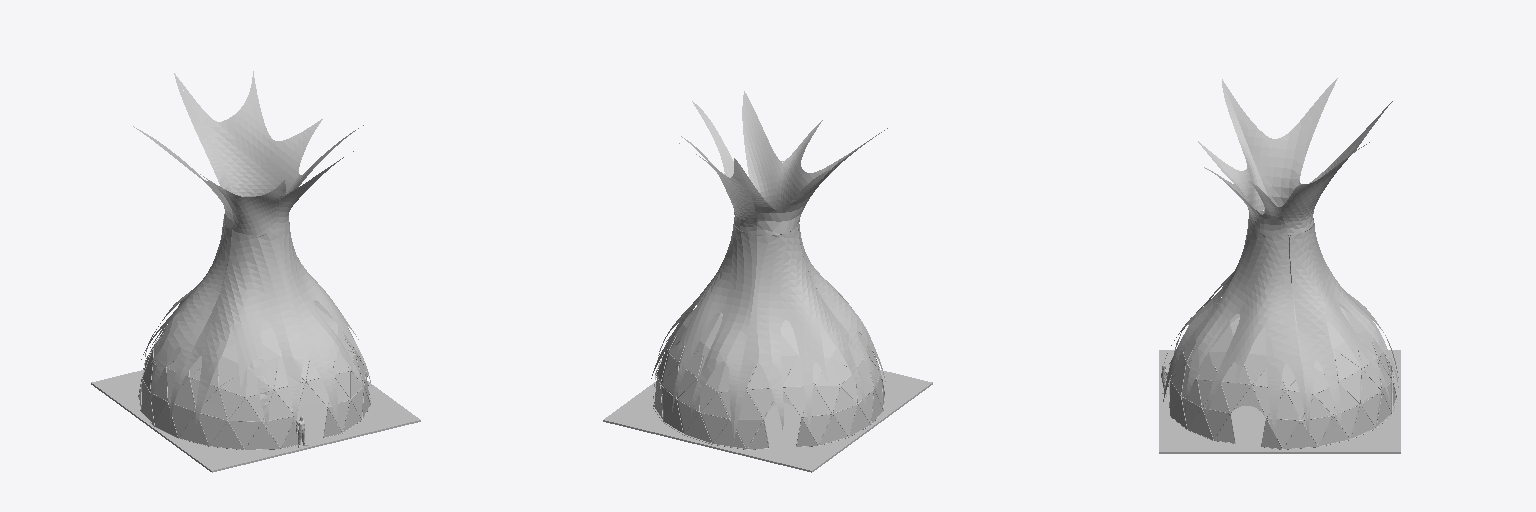
Rendered from Geo 12 Corona.obj.
3 renders of one model, left to right at view 1: azimuth 30°, elevation 25°; view 2: azimuth 150°, elevation 25°; view 3: azimuth 270°, elevation 25°, orthographic.
Visible parts, largest first — view 1: tenso, Obj_1399, Box002, Obj_1396, Obj_1388, Obj_1389, Obj_1398; view 2: tenso, Box002, Obj_1397, Obj_1396, Obj_1391, Obj_1386; view 3: tenso, Obj_1398, Box002, Obj_1397, Obj_1387, Obj_1399, Obj_1386.
Boxes of the visible parts, <box> form: tenso: <box>133,71,371,434</box>; Obj_1399: <box>179,356,360,449</box>; Box002: <box>91,370,420,472</box>; Obj_1396: <box>139,328,232,437</box>; Obj_1388: <box>246,320,350,396</box>; Obj_1389: <box>151,305,246,396</box>; Obj_1398: <box>343,332,369,418</box>; tenso: <box>651,91,887,441</box>; Box002: <box>603,370,932,472</box>; Obj_1397: <box>662,336,773,448</box>; Obj_1396: <box>781,331,882,444</box>; Obj_1391: <box>718,320,840,390</box>; Obj_1386: <box>666,312,726,391</box>; tenso: <box>1163,78,1398,434</box>; Obj_1398: <box>1188,359,1374,448</box>; Box002: <box>1159,350,1400,453</box>; Obj_1397: <box>1335,341,1395,426</box>; Obj_1387: <box>1195,317,1314,393</box>; Obj_1399: <box>1170,340,1197,428</box>; Obj_1386: <box>1292,294,1377,392</box>.
Bounding box in the file's own units: 492 × 661 × 492.